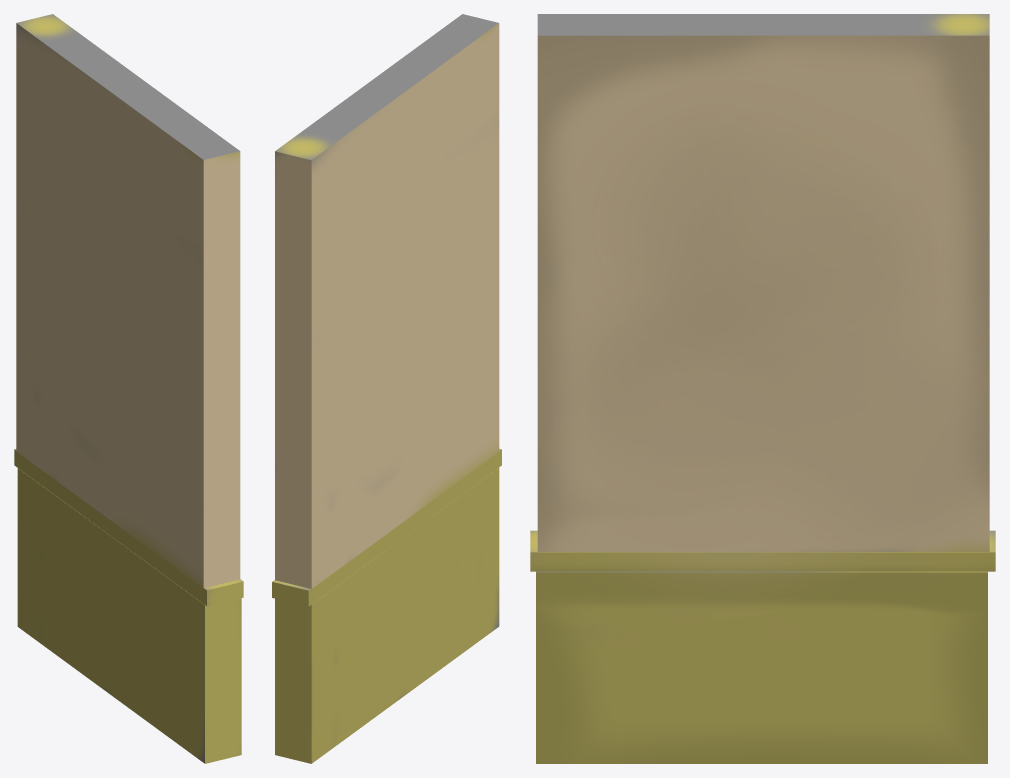
Rendered from parede mansao sem janela.fbx.
The picture shows the model from 3 angles, left to right: view 1: azimuth 30°, elevation 25°; view 2: azimuth 150°, elevation 25°; view 3: azimuth 270°, elevation 25°; orthographic projection. The views are drawn at different scales.
Visible parts, largest first — view 1: Cube; view 2: Cube; view 3: Cube.
Boxes of the visible parts, x1,y1,x2,y2 form: Cube: [14, 14, 243, 763]; Cube: [272, 14, 501, 763]; Cube: [530, 14, 995, 763].
Size of the model in its own units: 80.7 by 1247 by 722.
